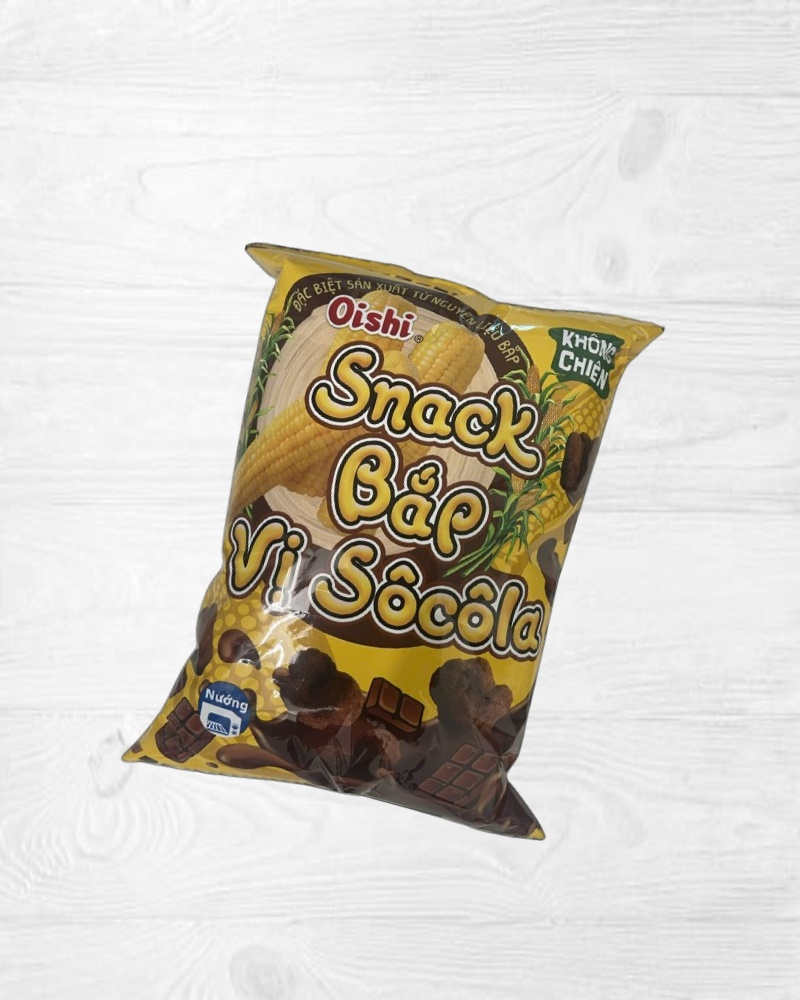Snack socola: (114, 221, 680, 861)
